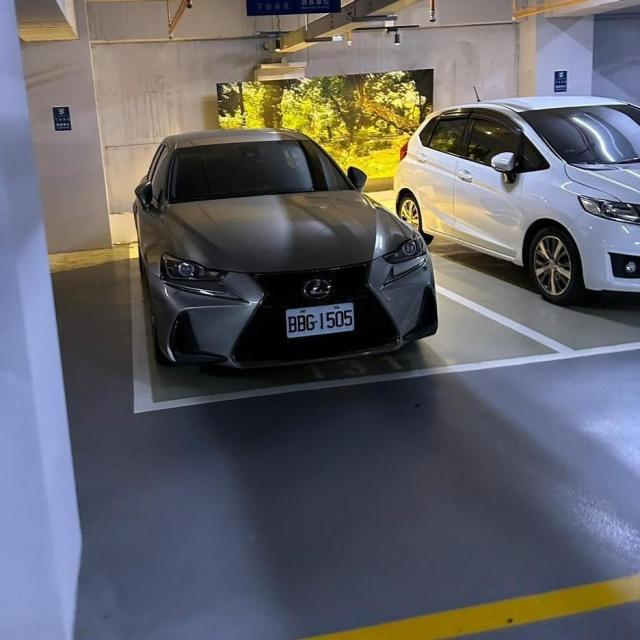W: (280, 298, 360, 340)
